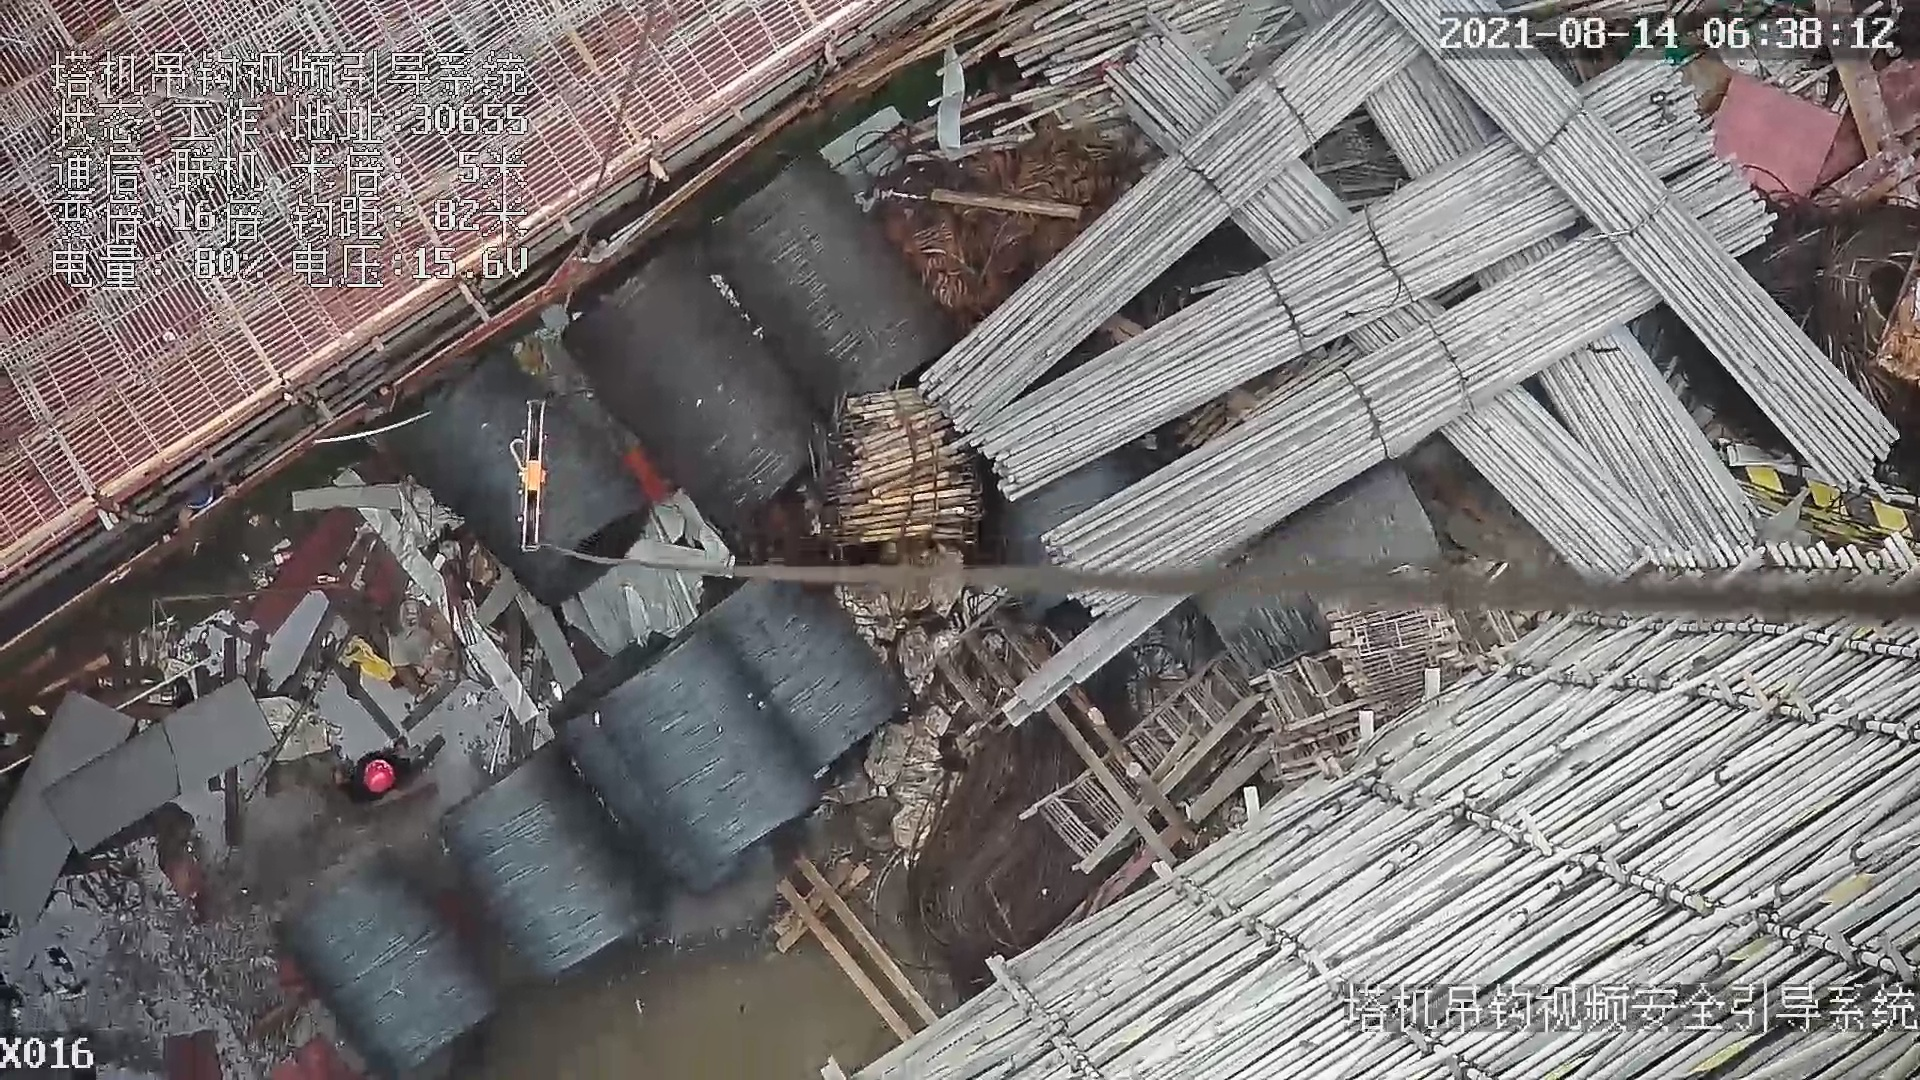helmet: (359, 759, 400, 801)
hook: (503, 395, 554, 558)
person: (337, 737, 456, 801)
scaffold: (979, 28, 1886, 567), (824, 387, 1003, 549)
